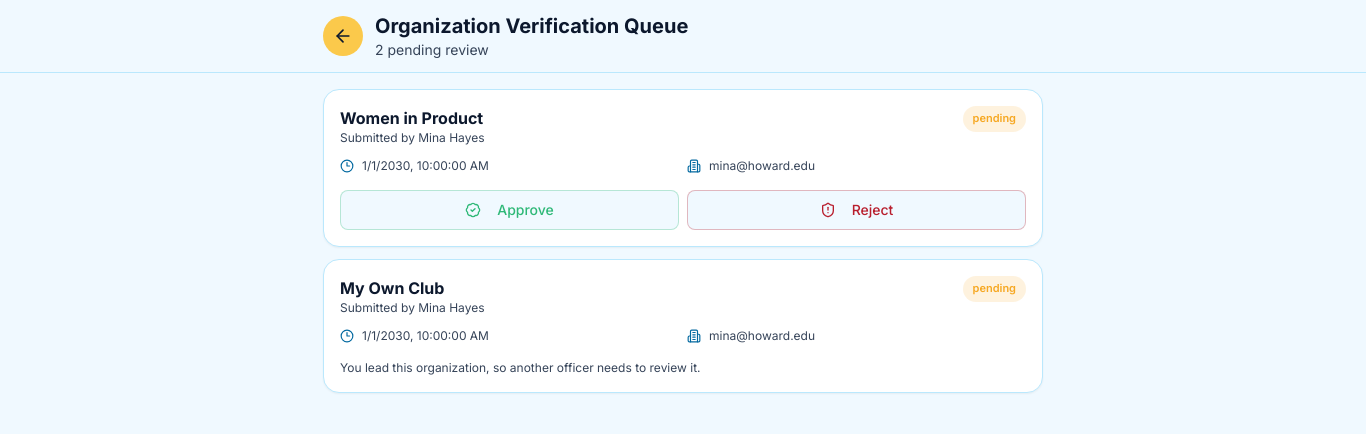
it: organization verification through the server › shows the server's queue and saves an approval through the API
Expected: the text "2 pending review" is shown, left=375, top=41, right=489, bottom=58
Expected: the text "another officer needs to review" is shown, left=340, top=360, right=700, bottom=375
Click the button "Approve" at (510, 210), box left=340, top=190, right=679, bottom=230
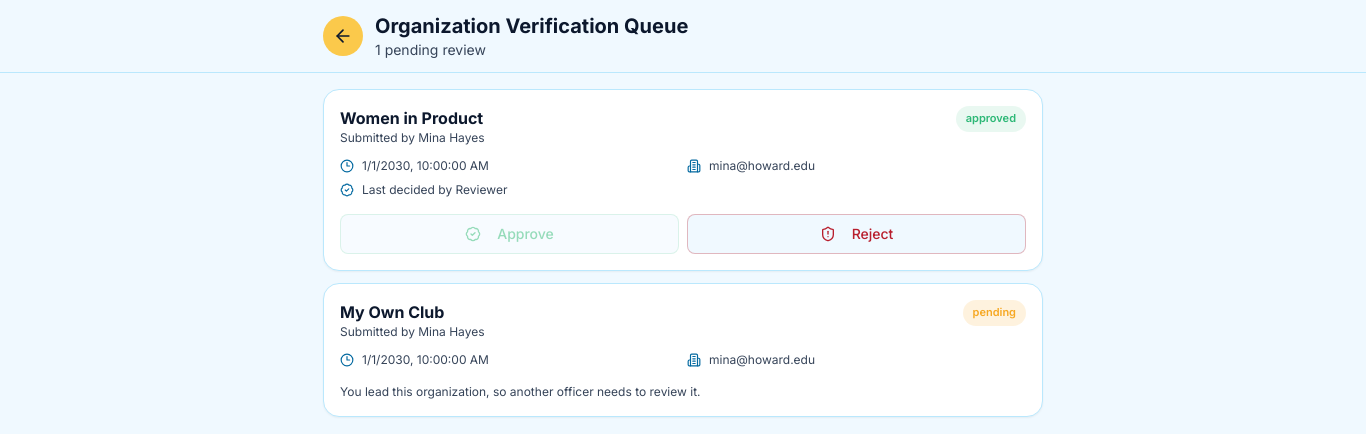
Result: the text "1 pending review" is shown at left=375, top=41, right=486, bottom=58
Result: the text "approved" is shown at left=956, top=106, right=1026, bottom=132
Result: the text "Last decided by Reviewer" is shown at left=340, top=182, right=507, bottom=197
